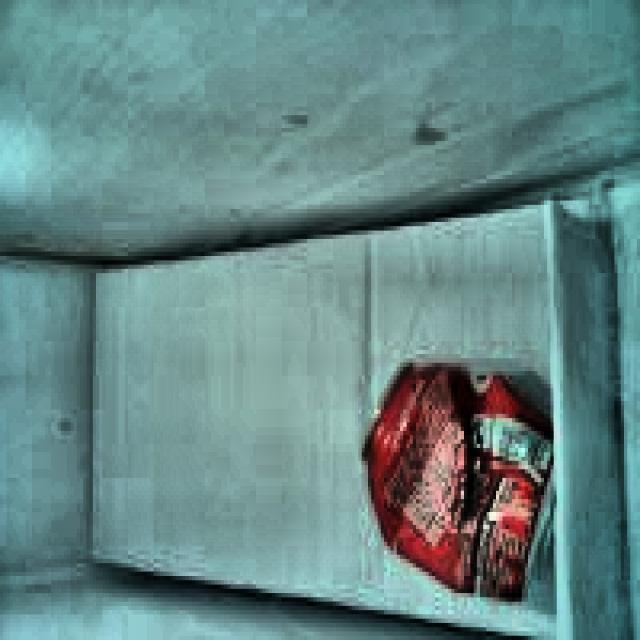Cans: (329, 340, 554, 618)
